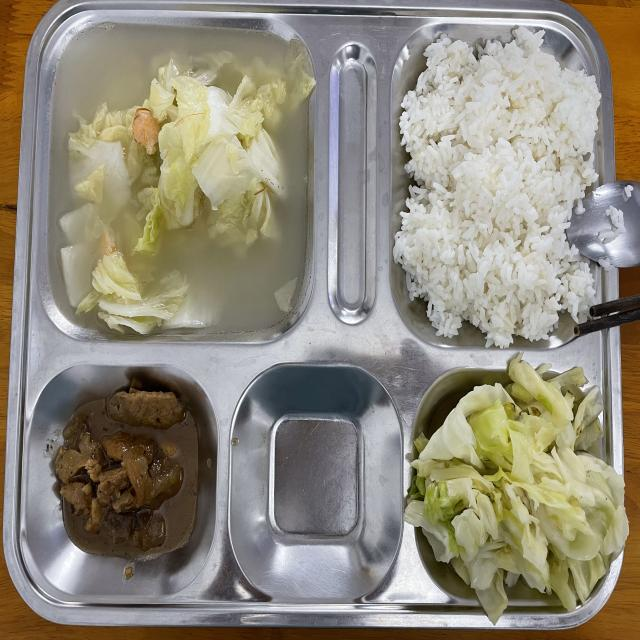com_trang: (418, 56, 580, 308)
thit_kho: (57, 383, 205, 564)
